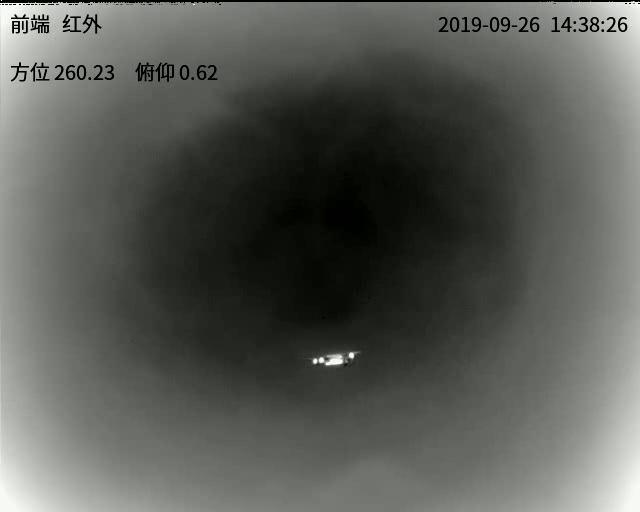DRONE: (309, 350, 361, 368)
